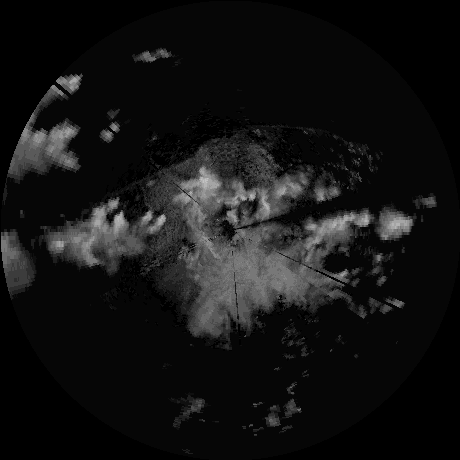frontgust: (249, 122, 372, 172)
